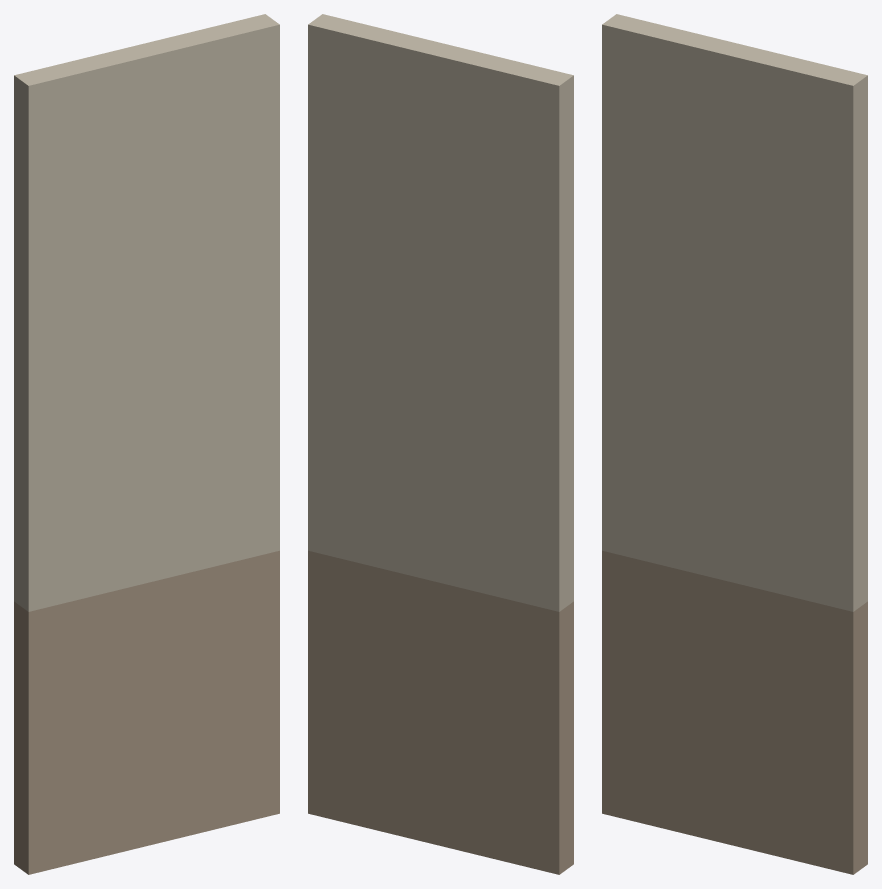
Rendered from Mesh_Wall2Colors_A1.fbx.
3 views of the same model, side by side, from view 1: azimuth 30°, elevation 25°; view 2: azimuth 150°, elevation 25°; view 3: azimuth 330°, elevation 25° (orthographic).
Visible parts, largest first — view 1: Mesh_Wall2Colors_A1; view 2: Mesh_Wall2Colors_A1; view 3: Mesh_Wall2Colors_A1.
Part boxes in pixels (bbox=[...]): Mesh_Wall2Colors_A1: bbox=[14, 14, 279, 874]; Mesh_Wall2Colors_A1: bbox=[308, 14, 573, 874]; Mesh_Wall2Colors_A1: bbox=[602, 14, 867, 874].
Bounding box in the file's own units: 1 × 3 × 0.1.
